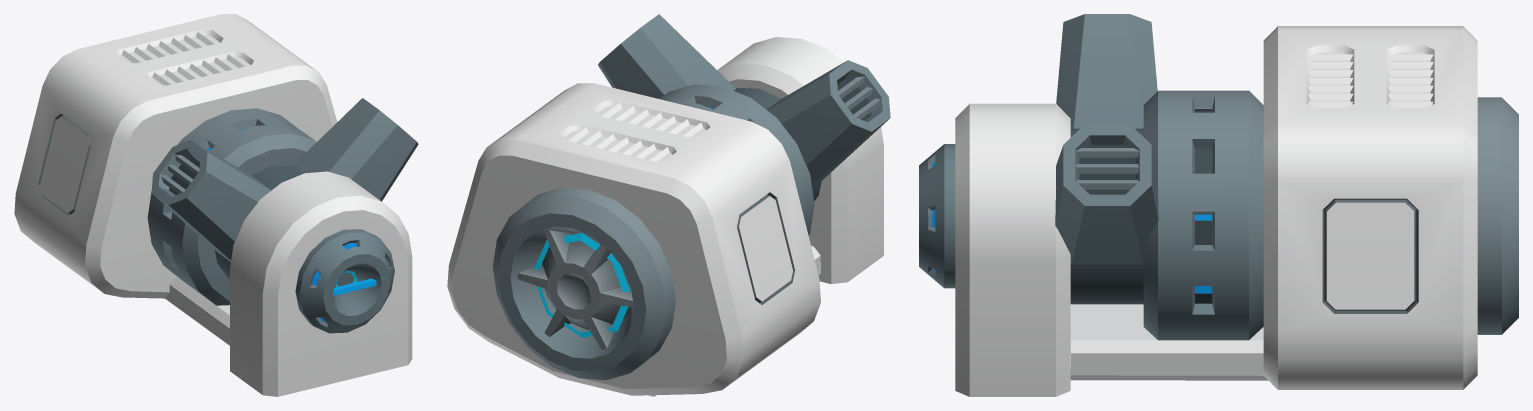
Rendered from Generator_005.glb.
3 renders of one model, left to right at view 1: azimuth 30°, elevation 25°; view 2: azimuth 150°, elevation 25°; view 3: azimuth 270°, elevation 25°, orthographic. The views are drawn at different scales.
Parts seen in each view (by area): view 1: Generator_005, Generator_rotor_002; view 2: Generator_005, Generator_rotor_002; view 3: Generator_005, Generator_rotor_002.
Boxes of the visible parts, <box> form: Generator_005: <box>14,14,418,396</box>; Generator_rotor_002: <box>171,128,376,295</box>; Generator_005: <box>447,14,890,396</box>; Generator_rotor_002: <box>534,106,713,337</box>; Generator_005: <box>919,14,1518,396</box>; Generator_rotor_002: <box>1195,111,1212,303</box>.
Bounding box in the file's own units: 1.98 × 1.49 × 2.9.
Materials: 2 (2 with a texture image).
